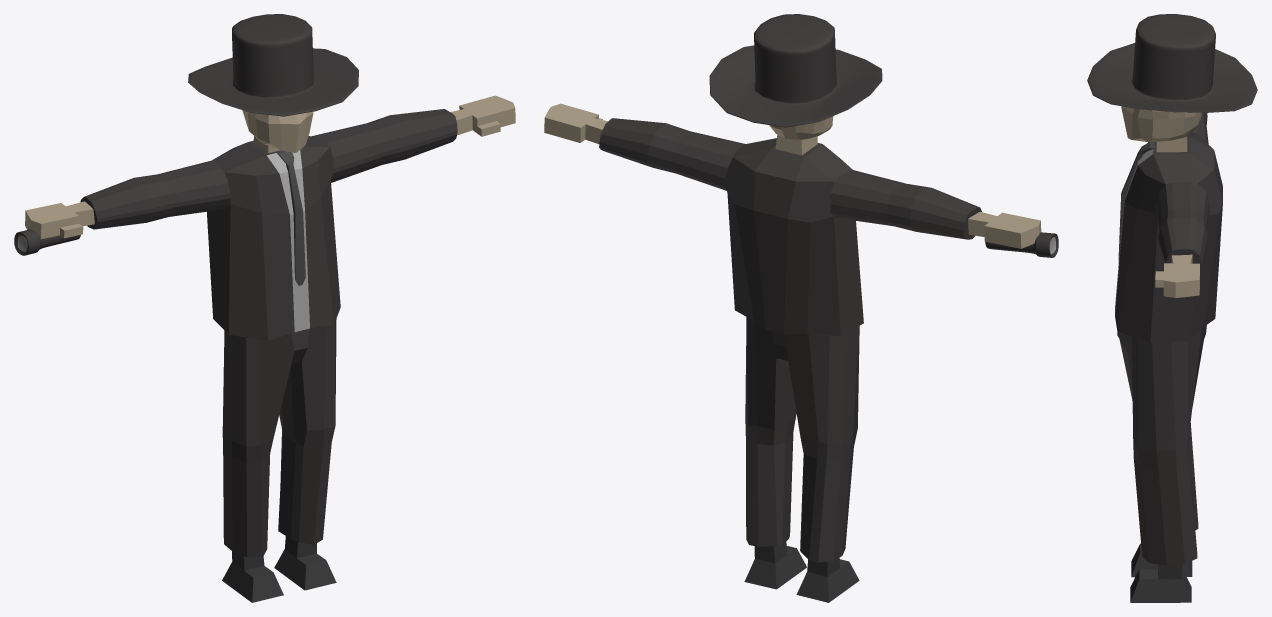
The model's file is Business_man.fbx.
The picture shows the model from 3 angles, left to right: view 1: azimuth 30°, elevation 25°; view 2: azimuth 150°, elevation 25°; view 3: azimuth 270°, elevation 25°; orthographic projection.
Visible parts, largest first — view 1: Business_man1; view 2: Business_man1; view 3: Business_man1.
Part boxes in pixels (bbox=[...]): Business_man1: bbox=[14, 14, 515, 602]; Business_man1: bbox=[544, 14, 1058, 602]; Business_man1: bbox=[1087, 14, 1257, 602].
Size of the model in its own units: 186 by 197 by 54.83.
